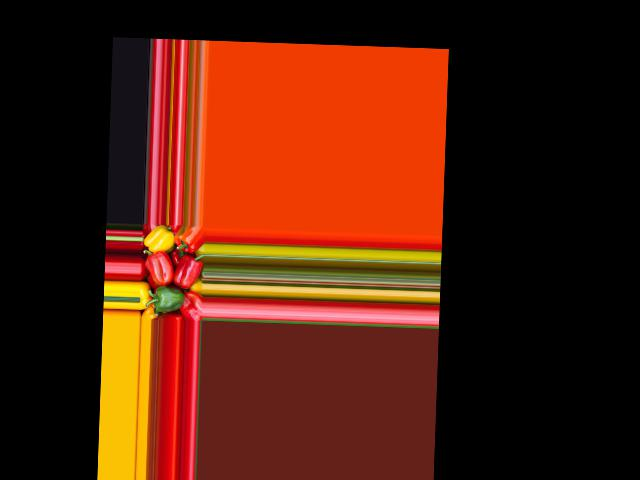bell_pepper: (142, 224, 177, 255)
